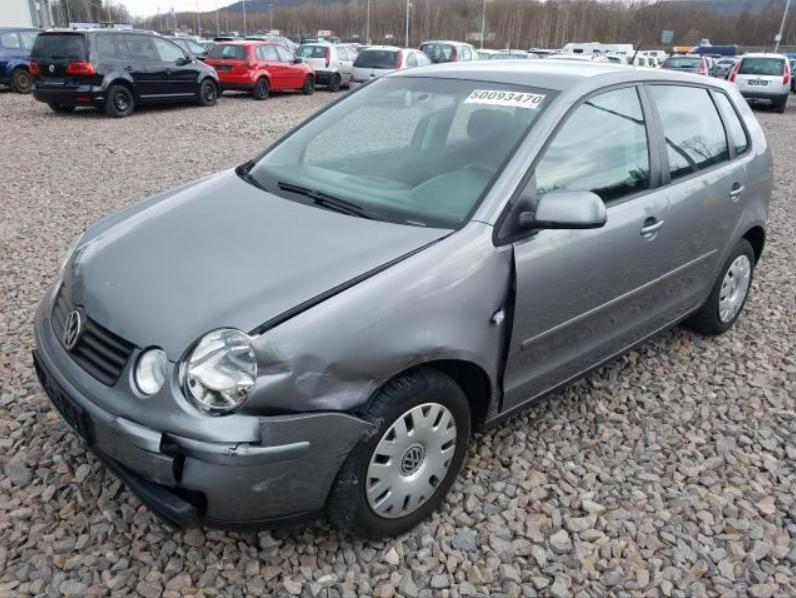Back-door: (643, 79, 749, 331)
Back-wheel: (687, 239, 755, 335)
Back-window: (649, 87, 727, 179), (712, 91, 750, 155)
Fender: (232, 221, 511, 420)
Front-bumper: (30, 270, 385, 532)
Front-door: (492, 82, 669, 413)
Front-wheel: (326, 367, 471, 540)
Front-window: (535, 86, 650, 222)
Grille: (51, 281, 134, 386)
Headlight: (185, 331, 258, 412), (135, 350, 169, 393), (58, 233, 83, 276)
Hood: (64, 161, 455, 362)
License-plate: (33, 351, 89, 445)
Mirror: (498, 170, 607, 239)
Quarter-panel: (705, 145, 772, 302)
Rocker-panel: (481, 300, 706, 429)
Roof: (378, 59, 739, 92)
Windshield: (248, 77, 560, 229)
